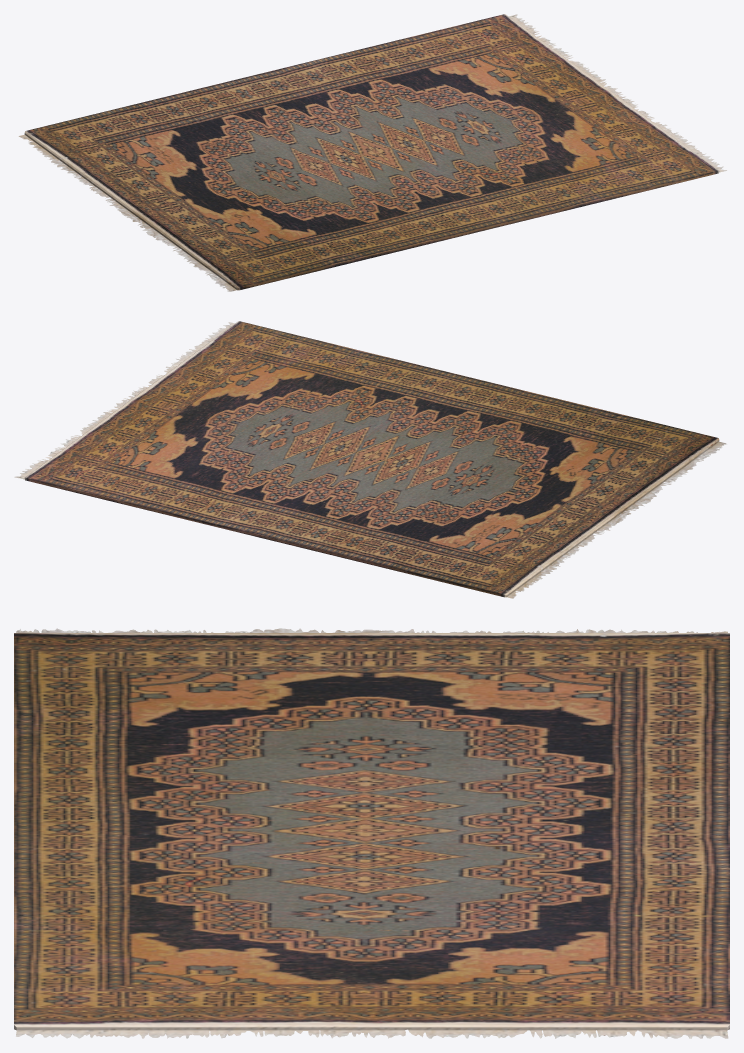
The model's file is rug_lounge.glb.
3 views of the same model, one above another, from view 1: azimuth 30°, elevation 25°; view 2: azimuth 150°, elevation 25°; view 3: azimuth 270°, elevation 25° (orthographic). The views are drawn at different scales.
Parts seen in each view (by area): view 1: persian_rug_0_n0; view 2: persian_rug_0_n0; view 3: persian_rug_0_n0.
Boxes of the visible parts, x1,y1,x2,y2 form: persian_rug_0_n0: (18, 14, 726, 291); persian_rug_0_n0: (14, 321, 726, 598); persian_rug_0_n0: (14, 628, 729, 1038).
Size of the model in its own units: 3.8 by 0.02 by 2.8.
Materials: 1 (1 with a texture image).
